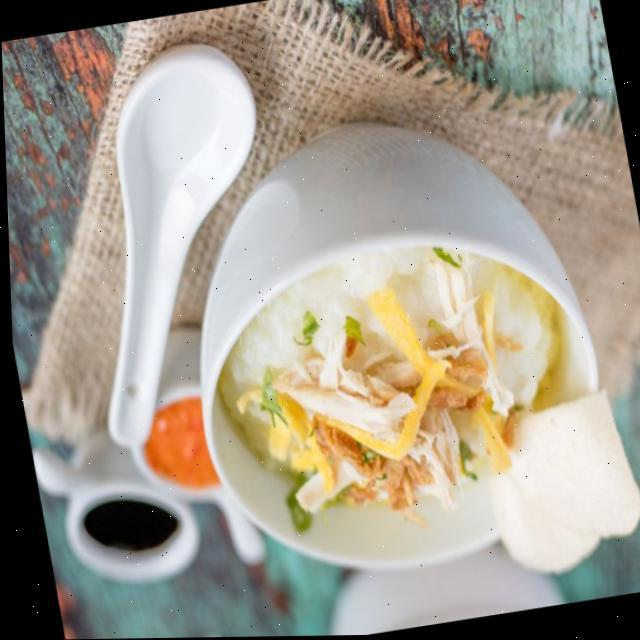bubur ayam: (196, 224, 594, 550)
mangkuk: (152, 88, 632, 600), (317, 534, 567, 636)
